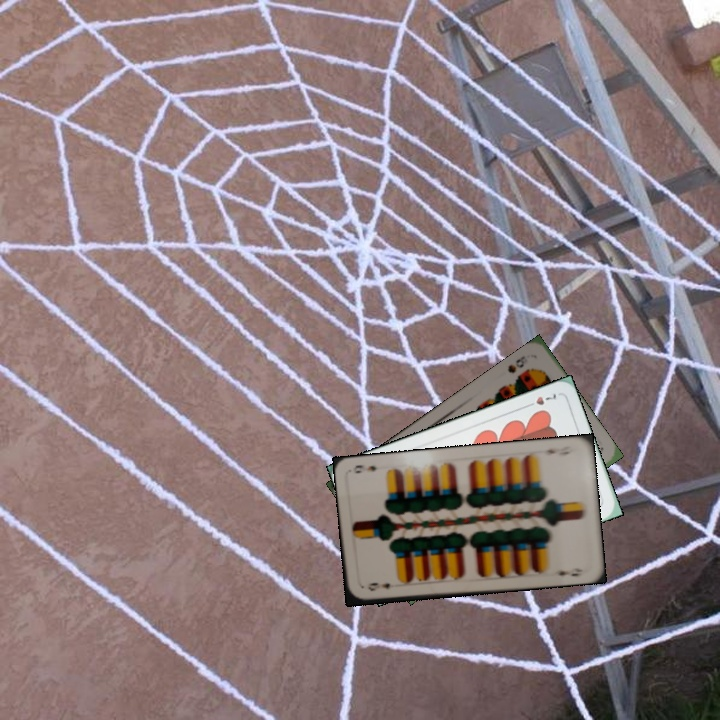E9: (537, 442, 576, 458), (363, 578, 393, 593)
H7: (521, 389, 559, 410)
S8: (503, 351, 530, 376)
